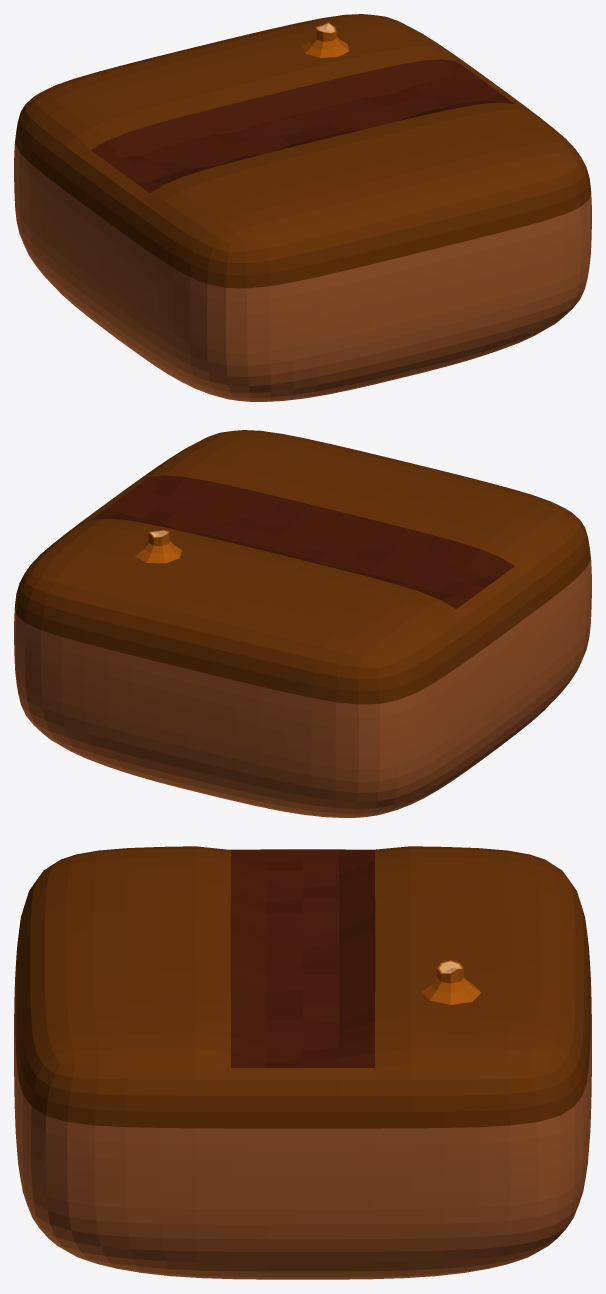
Rendered from platformDroitTerre.fbx.
3 renders of one model, top to bottom at view 1: azimuth 30°, elevation 25°; view 2: azimuth 150°, elevation 25°; view 3: azimuth 270°, elevation 25°, orthographic. The views are drawn at different scales.
Parts seen in each view (by area): view 1: terre forward; view 2: terre forward; view 3: terre forward.
Boxes of the visible parts, x1=… form: terre forward: x1=14, y1=14, x2=591, y2=401; terre forward: x1=14, y1=430, x2=591, y2=817; terre forward: x1=14, y1=846, x2=591, y2=1279.
Size of the model in its own units: 200 by 109 by 200.
